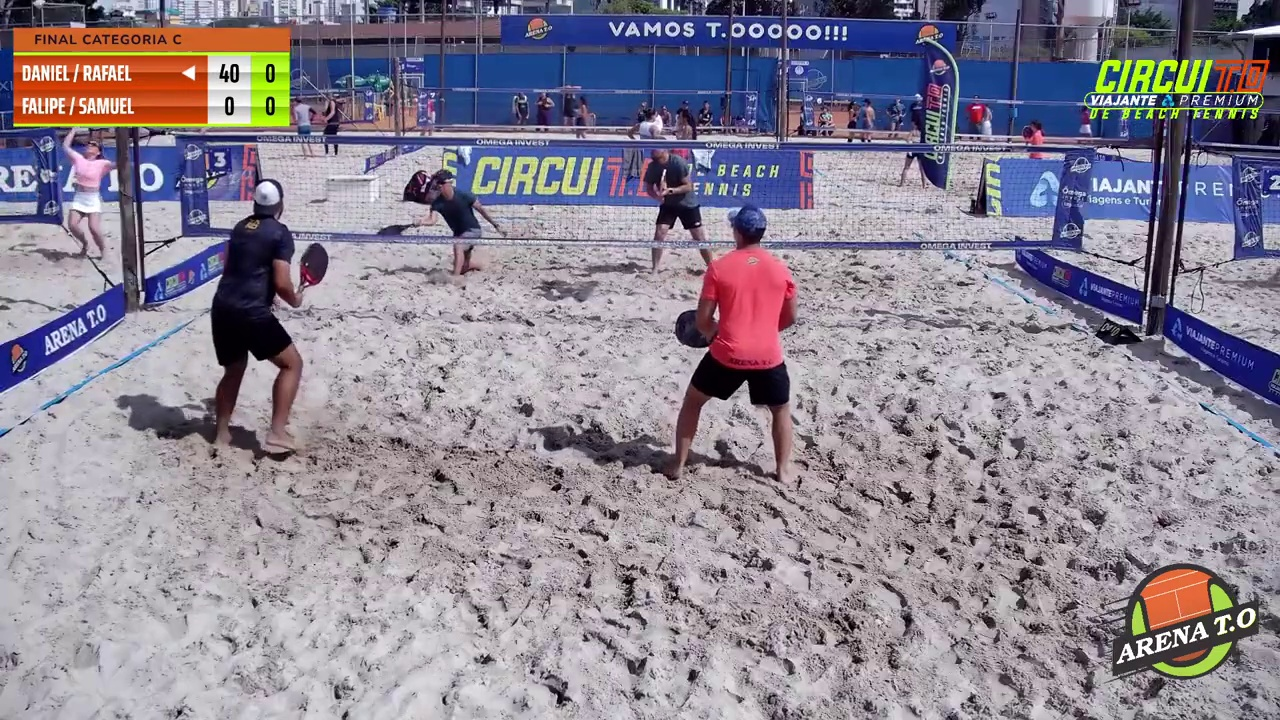court_line: (473, 0, 658, 404), (453, 0, 609, 405), (640, 0, 784, 405)
